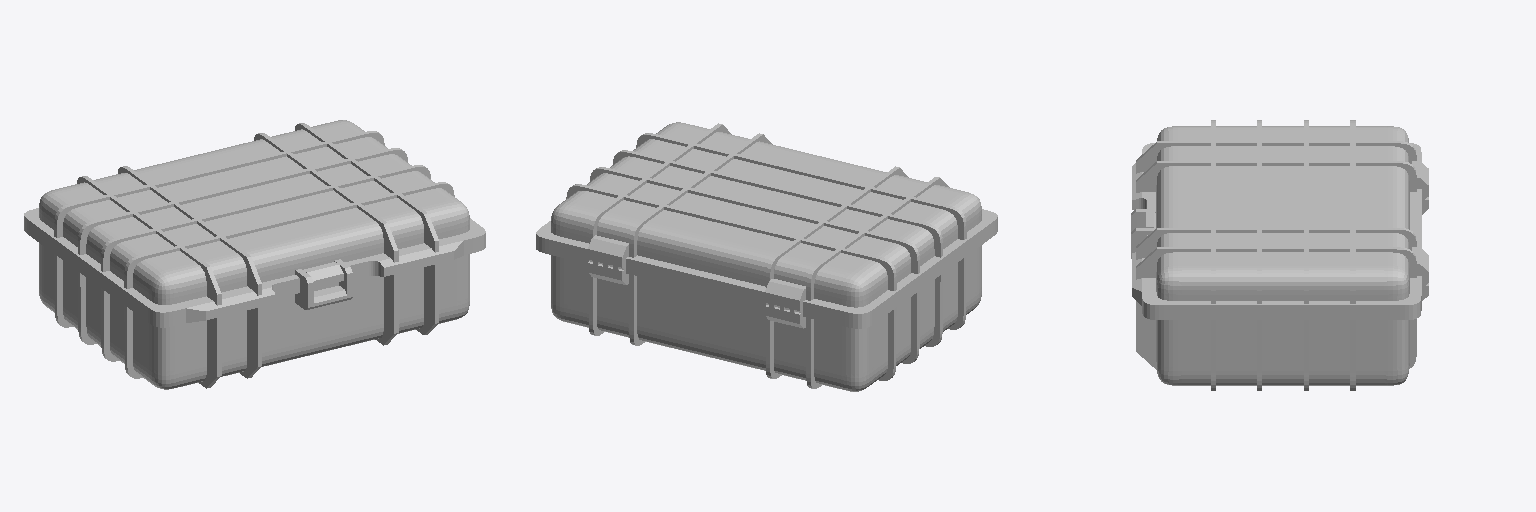
The model's file is long_small_crate.obj.
3 renders of one model, left to right at view 1: azimuth 30°, elevation 25°; view 2: azimuth 150°, elevation 25°; view 3: azimuth 270°, elevation 25°, orthographic.
Parts seen in each view (by area): view 1: model_1; view 2: model_1; view 3: model_1.
Boxes of the visible parts, x1=… form: model_1: x1=24, y1=120, x2=485, y2=389; model_1: x1=536, y1=122, x2=997, y2=391; model_1: x1=1131, y1=120, x2=1428, y2=390.
Size of the model in its own units: 0.8898 by 0.3098 by 0.6884.